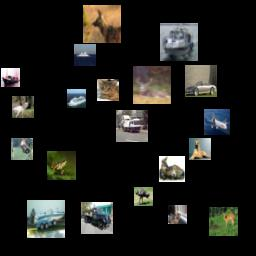airplane: (204, 109, 230, 135)
automobile: (185, 65, 217, 97)
bird: (11, 138, 33, 160), (134, 187, 153, 206)
cat: (97, 79, 119, 101)
deer: (133, 66, 171, 104), (209, 207, 238, 236), (159, 156, 185, 182), (12, 96, 34, 118)
dog: (83, 5, 121, 43), (189, 138, 211, 160), (168, 205, 187, 224)
frog: (47, 151, 76, 180)
ship: (27, 200, 65, 238), (160, 23, 198, 61), (74, 44, 96, 66), (1, 68, 20, 87), (67, 89, 86, 108)
truck: (81, 202, 113, 234), (116, 110, 148, 142)
